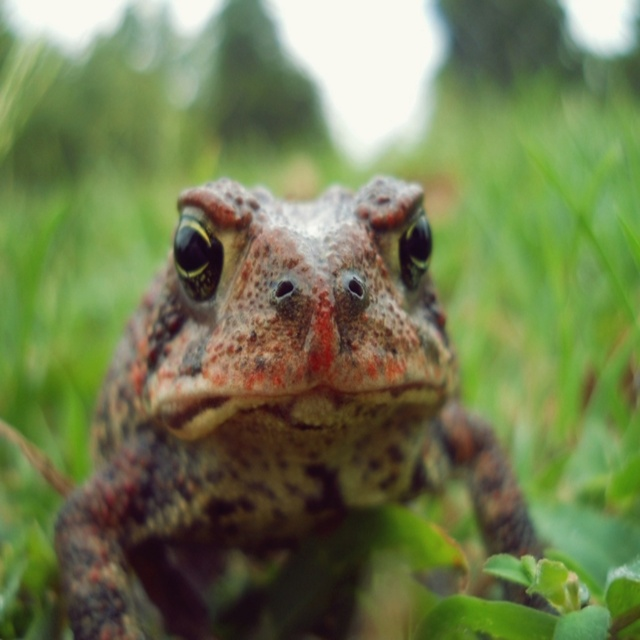Frog: (53, 176, 563, 640)
